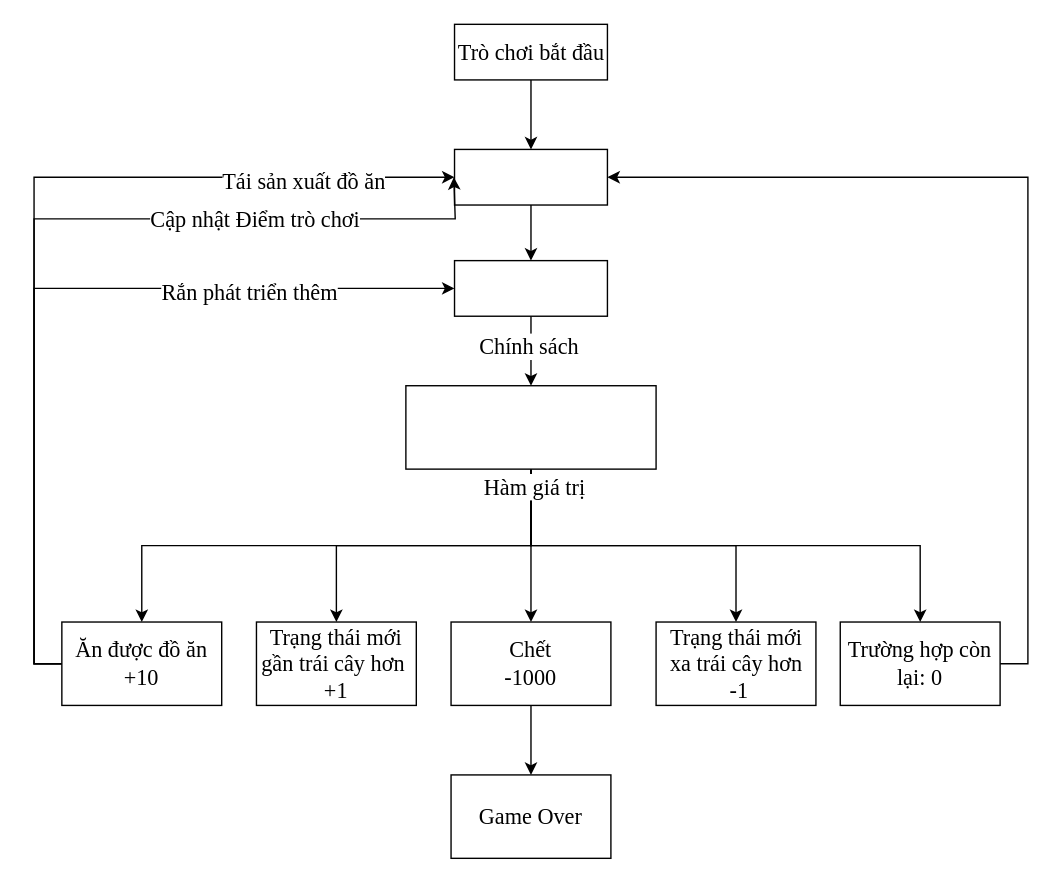
Image size: 1063x883. Some labels were removed from this diagram. Here are the shapes that lost their labels. From the top down, the centre of each, then its label:
the point at 530,176: Môi trường
the point at 530,287: Rắn
the point at 530,426: Đi thẳng, rẽ phải, rẽ trái
